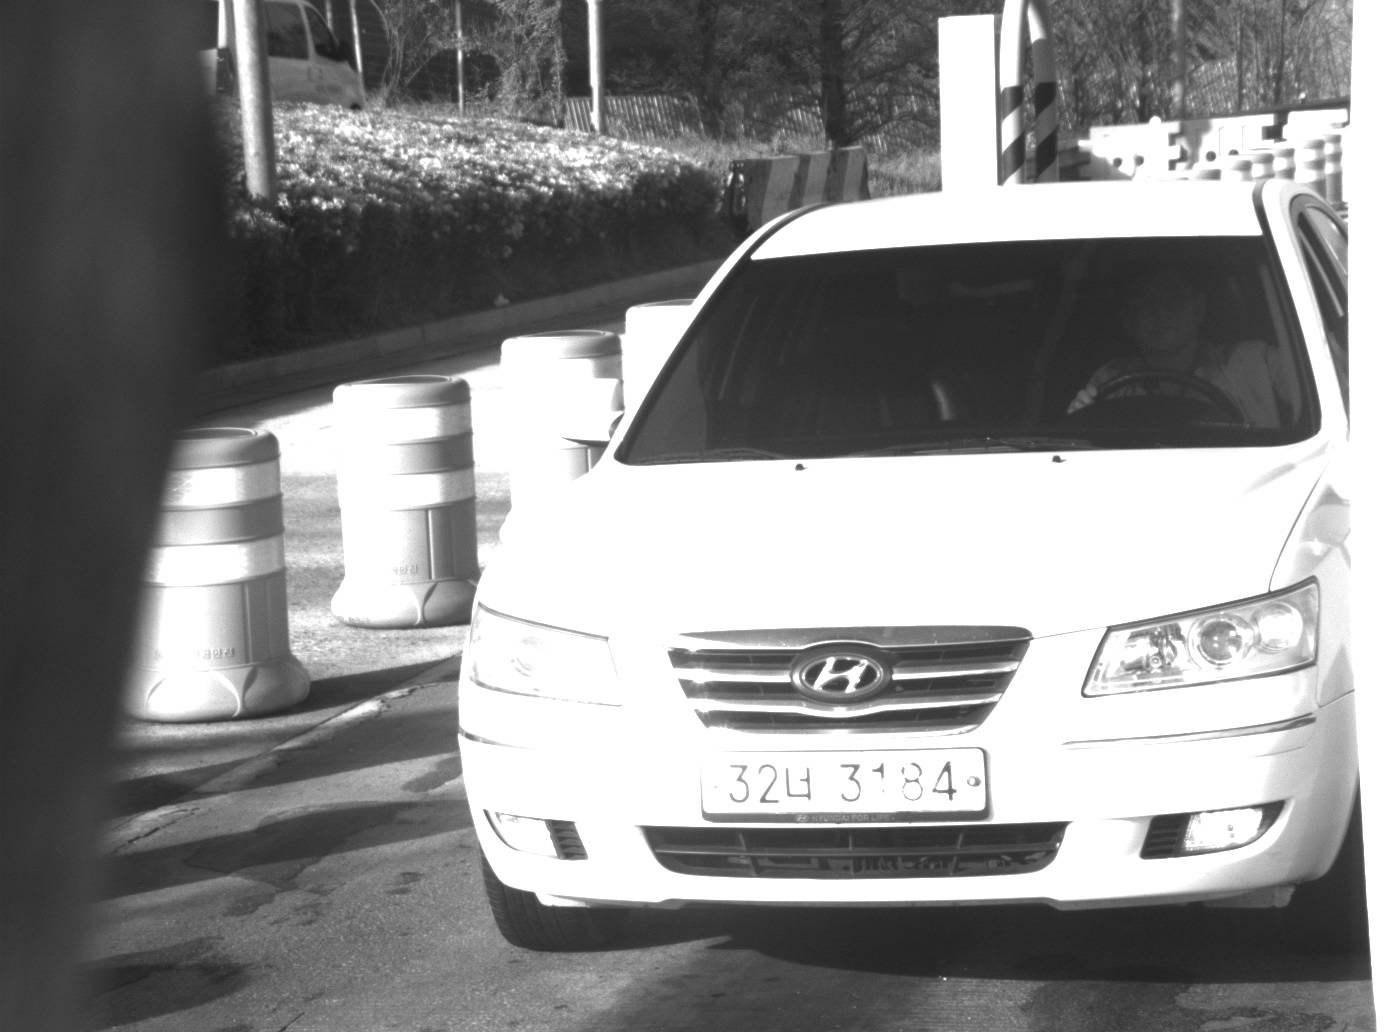car: (451, 174, 1345, 947)
plate: (694, 743, 995, 824)
